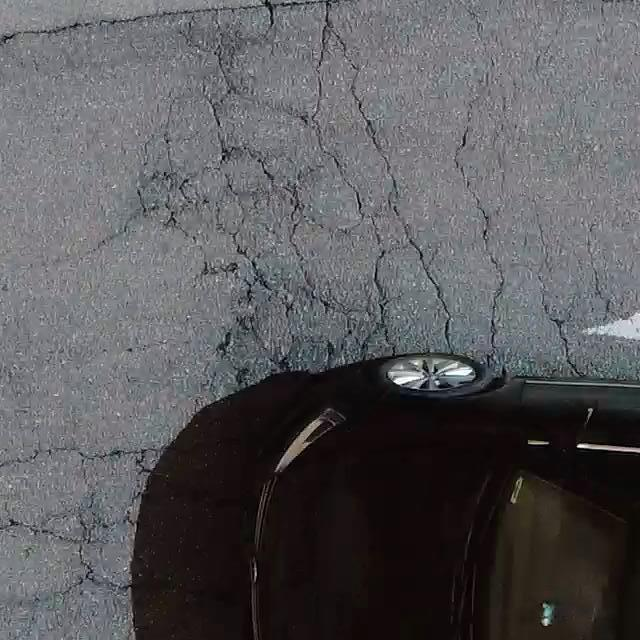GRIETA: (2, 1, 316, 44), (79, 205, 142, 256), (543, 302, 583, 376), (587, 225, 611, 312)
PIEL DE COCODRILO: (128, 0, 515, 393), (0, 440, 225, 612)
